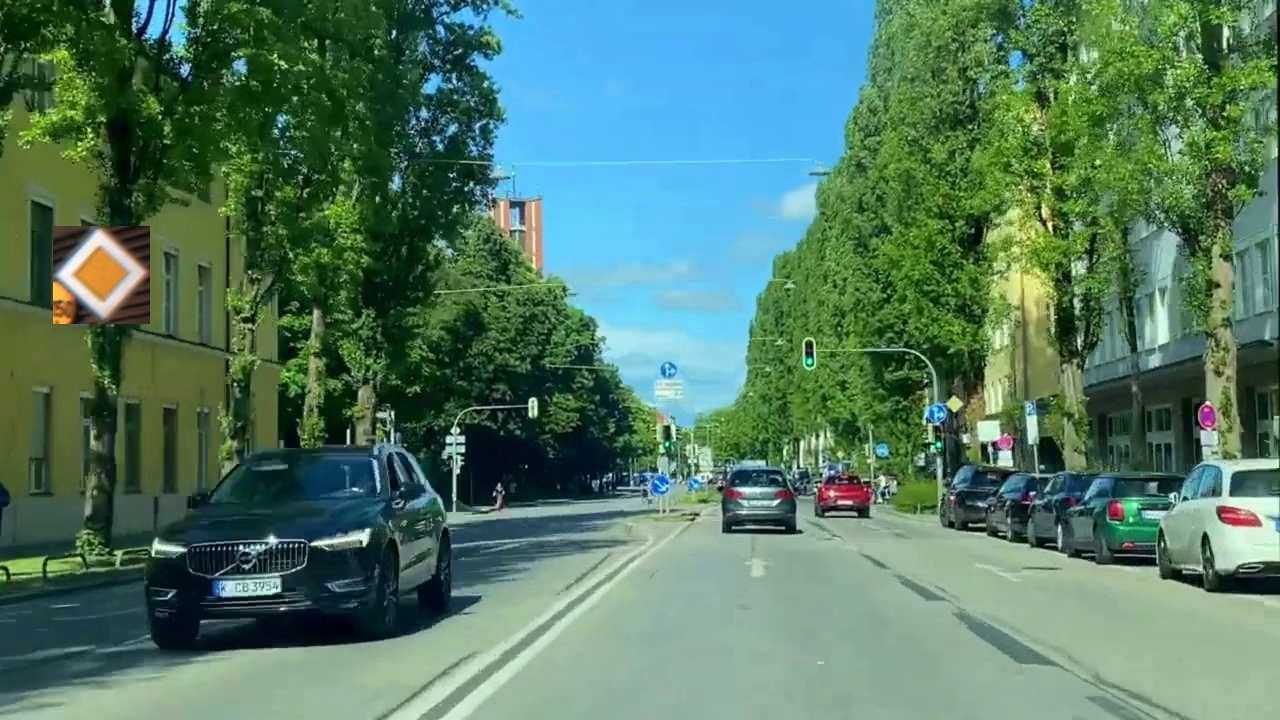Priority road: (53, 226, 150, 324)
